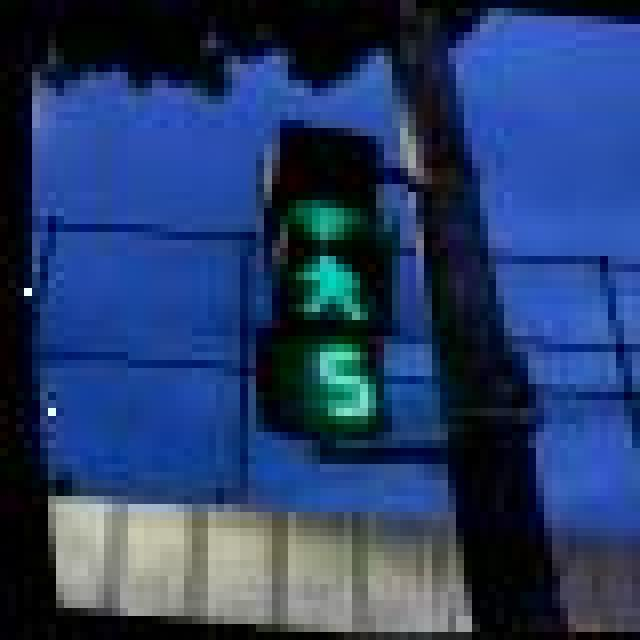greenlight: (240, 0, 400, 328)
